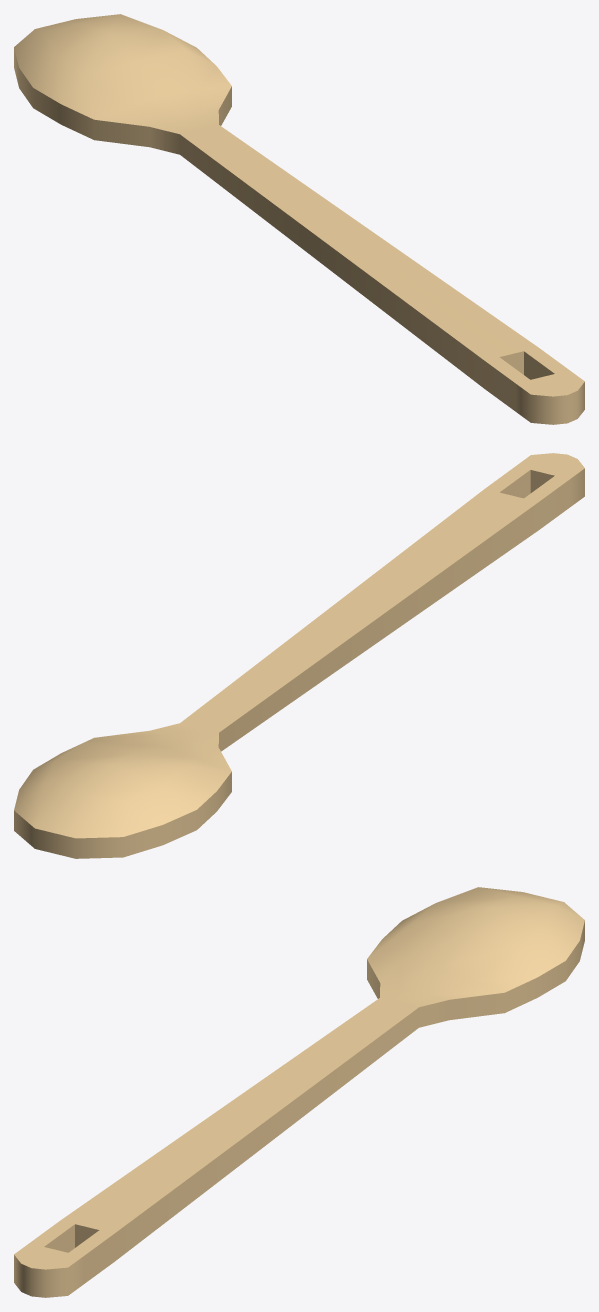
The model's file is utensil_wooden_spoon.fbx.
3 views of the same model, one above another, from view 1: azimuth 30°, elevation 25°; view 2: azimuth 150°, elevation 25°; view 3: azimuth 330°, elevation 25° (orthographic).
Visible parts, largest first — view 1: wooden spoon; view 2: wooden spoon; view 3: wooden spoon.
Boxes of the visible parts, left/top/right/bottom form: wooden spoon: left=14, top=14, right=584, bottom=424; wooden spoon: left=14, top=453, right=584, bottom=858; wooden spoon: left=14, top=887, right=584, bottom=1297.
Bounding box in the file's own units: 69.05 × 21.6 × 374.
